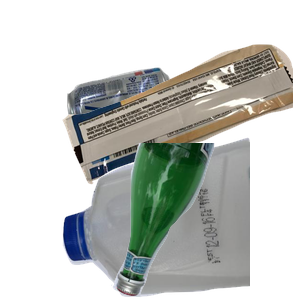glass: (109, 143, 300, 300)
metal: (65, 65, 231, 192)
plastic: (60, 135, 300, 300)
trash: (60, 42, 300, 219)
